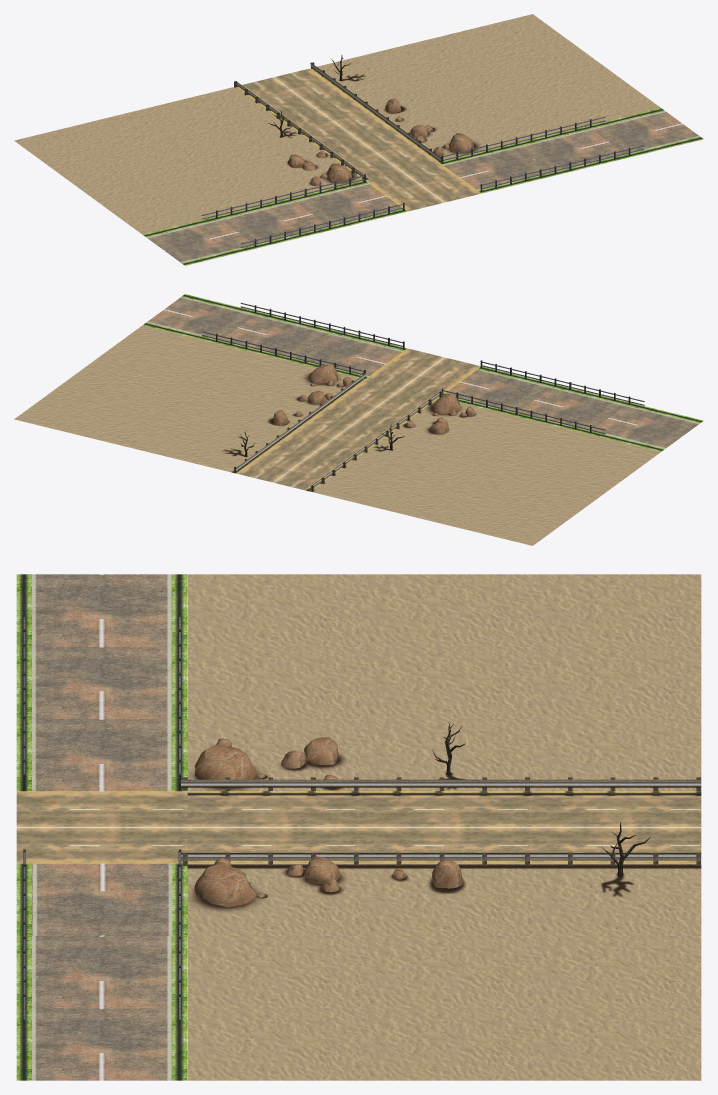
File: end2.FBX
3 renders of one model, top to bottom at view 1: azimuth 30°, elevation 25°; view 2: azimuth 150°, elevation 25°; view 3: azimuth 270°, elevation 25°, orthographic. The views are drawn at different scales.
Parts seen in each view (by area): view 1: end003, end2, road014, boundry002, rock008, relling006; view 2: end003, end2, road014, boundry002, rock008, relling006; view 3: end003, end2, road014, boundry002, relling006, rock008, Box020.
Boxes of the visible parts, bbox=[...] form: end003: bbox=[14, 14, 660, 234]; end2: bbox=[146, 111, 699, 263]; road014: bbox=[237, 68, 481, 211]; boundry002: bbox=[142, 108, 703, 265]; rock008: bbox=[287, 98, 473, 185]; relling006: bbox=[234, 62, 441, 181]; end003: bbox=[14, 325, 660, 545]; end2: bbox=[144, 297, 699, 451]; road014: bbox=[237, 348, 480, 491]; boundry002: bbox=[143, 294, 703, 451]; rock008: bbox=[273, 364, 474, 434]; relling006: bbox=[234, 372, 442, 491]; end003: bbox=[187, 574, 701, 1080]; end2: bbox=[32, 574, 172, 1080]; road014: bbox=[16, 791, 701, 863]; boundry002: bbox=[16, 574, 187, 1080]; relling006: bbox=[181, 777, 701, 865]; rock008: bbox=[194, 737, 462, 907]; Box020: bbox=[432, 722, 650, 874].
Bounding box in the file's own units: 140 × 8.04 × 80.
